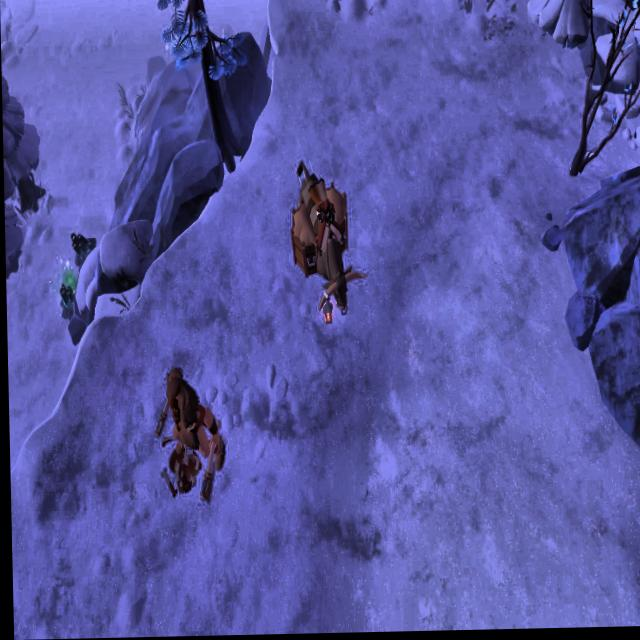enemy_factionKeeper: (158, 366, 221, 491)
ore_t4: (71, 228, 91, 259), (59, 279, 74, 312)
